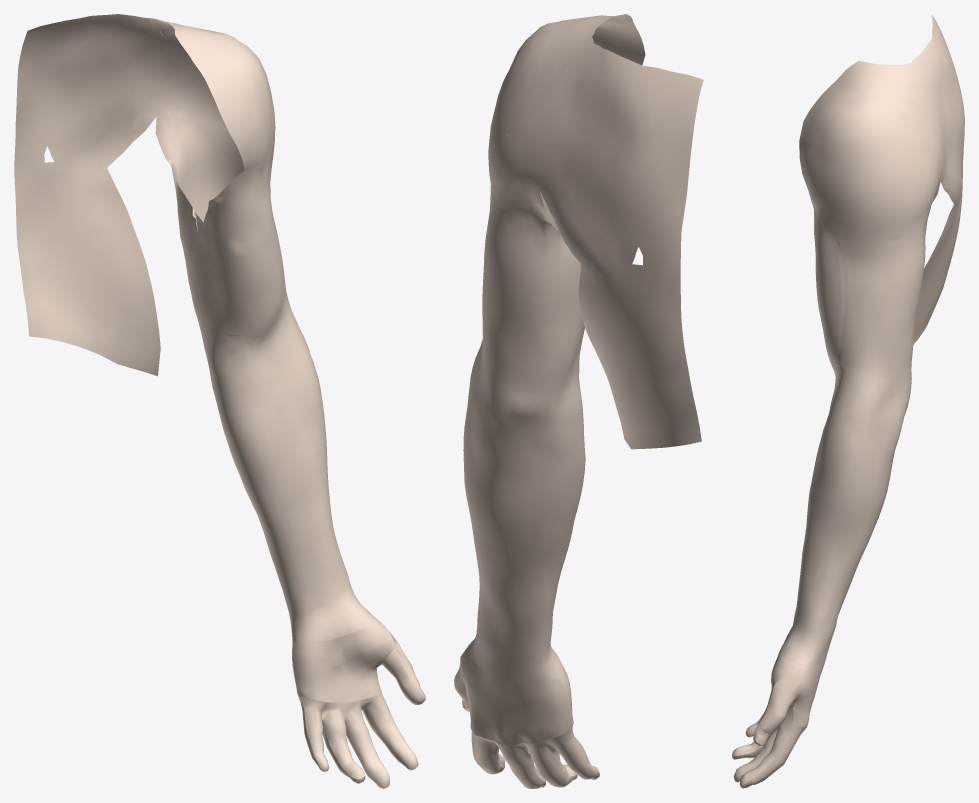
Rendered from skin.glb.
3 renders of one model, left to right at view 1: azimuth 30°, elevation 25°; view 2: azimuth 150°, elevation 25°; view 3: azimuth 270°, elevation 25°, orthographic. The views are drawn at different scales.
Parts seen in each view (by area): view 1: Infrascapular region.l.001, Anterior region of forearm.l.001, Scapular region.l.001, Anterior region of arm.l.001, Posterior region of arm.l.001, Deltoid region.l.001, Palmar surfaces of digits of hand.l.001, Palm.l.001, Anterior region of elbow.l.001, Interscapular region.l.001, Anterior region of wrist.l.001, Dorsal surfaces of digits of hand.l.001 (+1 smaller); view 2: Scapular region.l.001, Posterior region of forearm.l.001, Posterior region of arm.l.001, Infrascapular region.l.001, Interscapular region.l.001, Deltoid region.l.001, Dorsum of hand.l.001, Posterior region of elbow.l.001, Dorsal surfaces of digits of hand.l.001, Posterior region of wrist.l.001, Medial border of forearm.l.001, Anterior region of forearm.l.001 (+1 smaller); view 3: Deltoid region.l.001, Posterior region of arm.l.001, Posterior region of forearm.l.001, Anterior region of arm.l.001, Anterior region of forearm.l.001, Scapular region.l.001, Posterior region of elbow.l.001, Infrascapular region.l.001, Dorsal surfaces of digits of hand.l.001, Lateral border of forearm.l.001, Anterior region of elbow.l.001, Palmar surfaces of digits of hand.l.001 (+5 smaller).
Part boxes in pixels (x1,y1,x2,y2): Infrascapular region.l.001: (15,168,160,376); Anterior region of forearm.l.001: (218,356,354,615); Scapular region.l.001: (38,14,187,188); Anterior region of arm.l.001: (196,170,289,334); Posterior region of arm.l.001: (155,72,244,326); Deltoid region.l.001: (144,17,275,185); Palmar surfaces of digits of hand.l.001: (300,644,423,787); Palm.l.001: (292,619,394,702); Anterior region of elbow.l.001: (208,304,311,389); Interscapular region.l.001: (14,18,78,187); Anterior region of wrist.l.001: (293,596,376,643); Dorsal surfaces of digits of hand.l.001: (298,640,425,788); Scapular region.l.001: (516,44,653,291); Posterior region of forearm.l.001: (463,396,573,661); Posterior region of arm.l.001: (482,127,582,381); Infrascapular region.l.001: (578,264,701,449); Interscapular region.l.001: (624,65,703,293); Deltoid region.l.001: (488,14,645,166); Dorsum of hand.l.001: (460,647,572,746); Posterior region of elbow.l.001: (468,338,575,437); Dorsal surfaces of digits of hand.l.001: (454,664,599,788); Posterior region of wrist.l.001: (466,636,558,685); Medial border of forearm.l.001: (544,427,580,649); Anterior region of forearm.l.001: (518,421,585,654); Deltoid region.l.001: (799,61,931,247); Posterior region of arm.l.001: (866,155,940,372); Posterior region of forearm.l.001: (807,418,903,642); Anterior region of arm.l.001: (814,210,872,372); Anterior region of forearm.l.001: (792,419,850,641); Scapular region.l.001: (910,37,964,208); Posterior region of elbow.l.001: (861,361,911,428); Infrascapular region.l.001: (913,179,962,344); Dorsal surfaces of digits of hand.l.001: (732,686,806,788); Lateral border of forearm.l.001: (810,428,860,632); Anterior region of elbow.l.001: (827,369,865,428); Palmar surfaces of digits of hand.l.001: (732,687,791,786).
Size of the model in its own units: 0.3138 by 0.7385 by 0.2359.
